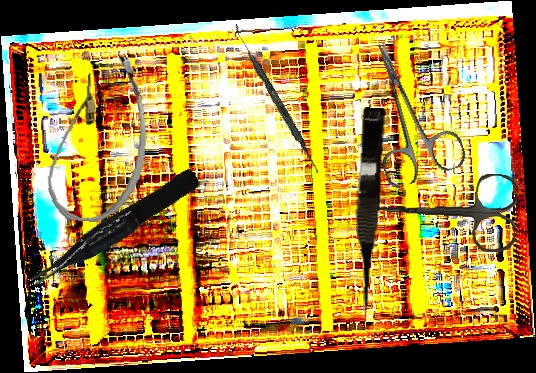Cannula: (43, 51, 154, 226)
Iris Scissors: (345, 29, 469, 191), (369, 167, 519, 254)
Micro Scissor: (348, 106, 386, 315)
Spatula Surgical: (228, 23, 324, 174)
Tissue Forceps: (21, 167, 206, 290)
